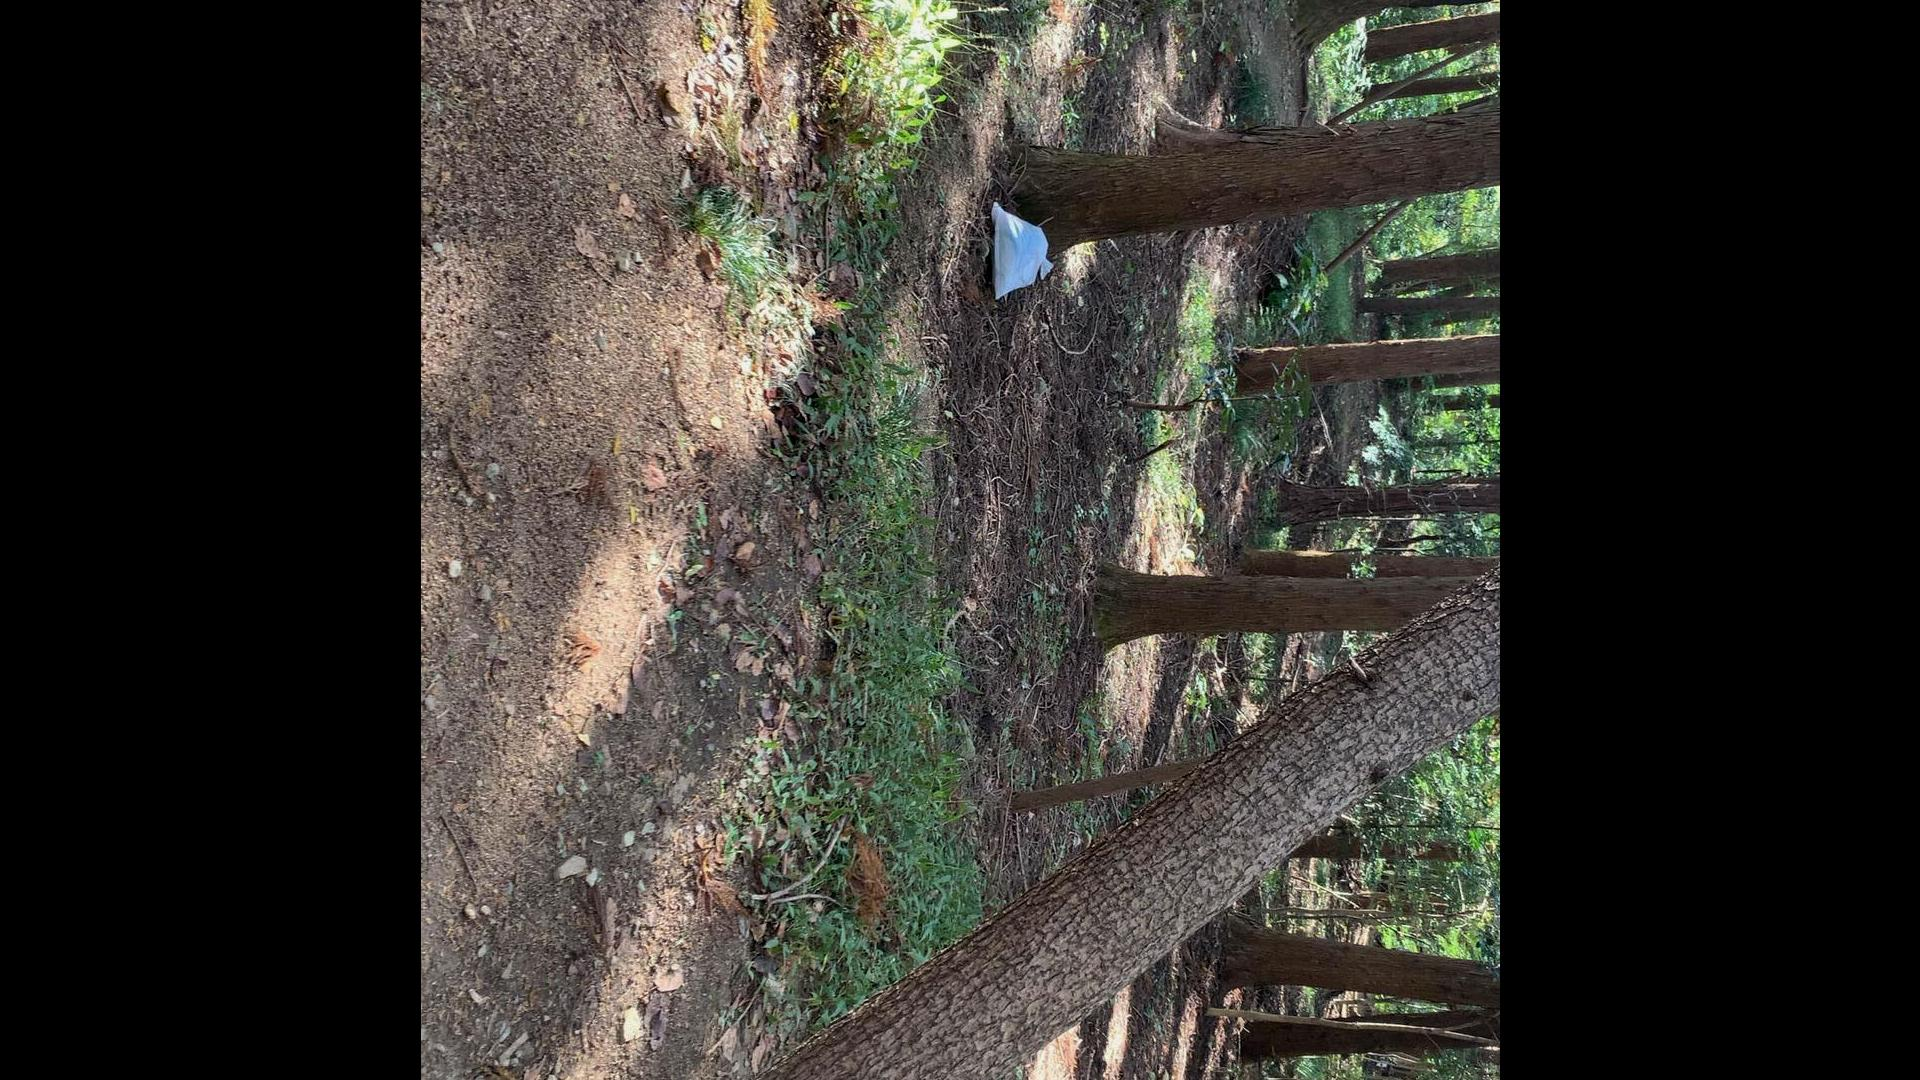white_bag: (985, 196, 1059, 303)
